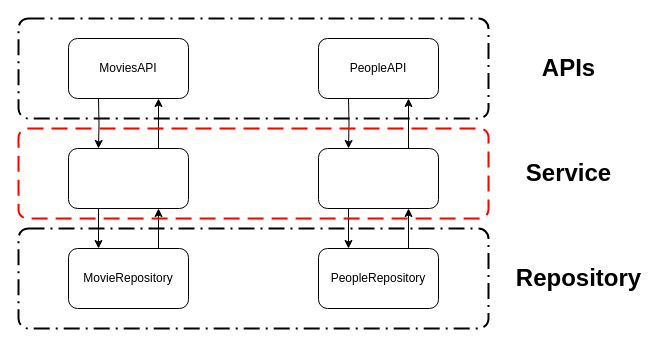
This 658x346 diagram has some shape labels left out. The shapes that lost their labels are listed below. From the top down, each one's centre as x and y in pixels, then its label:
At point (128, 178): "MoviesService".
At point (378, 178): "PeopleService".
